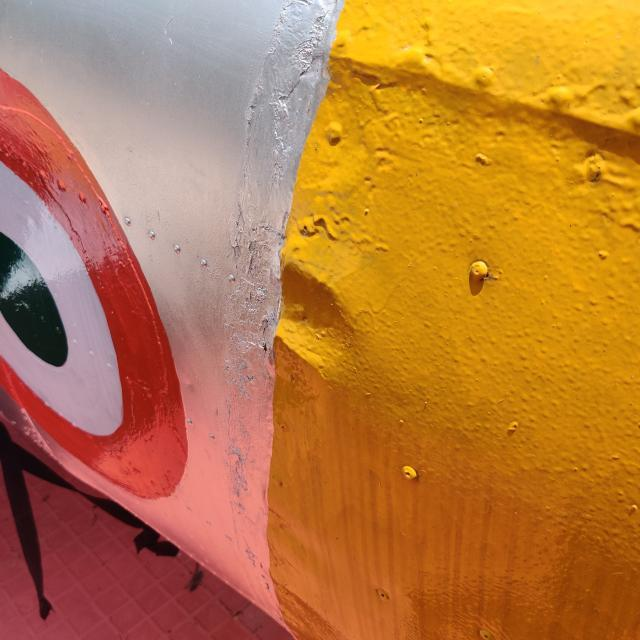dent: (233, 239, 380, 406)
